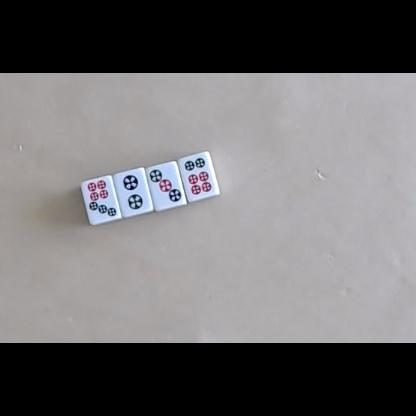2p: (123, 174, 144, 211)
3p: (150, 169, 182, 203)
6p: (184, 157, 213, 196)
7p: (87, 180, 118, 217)
